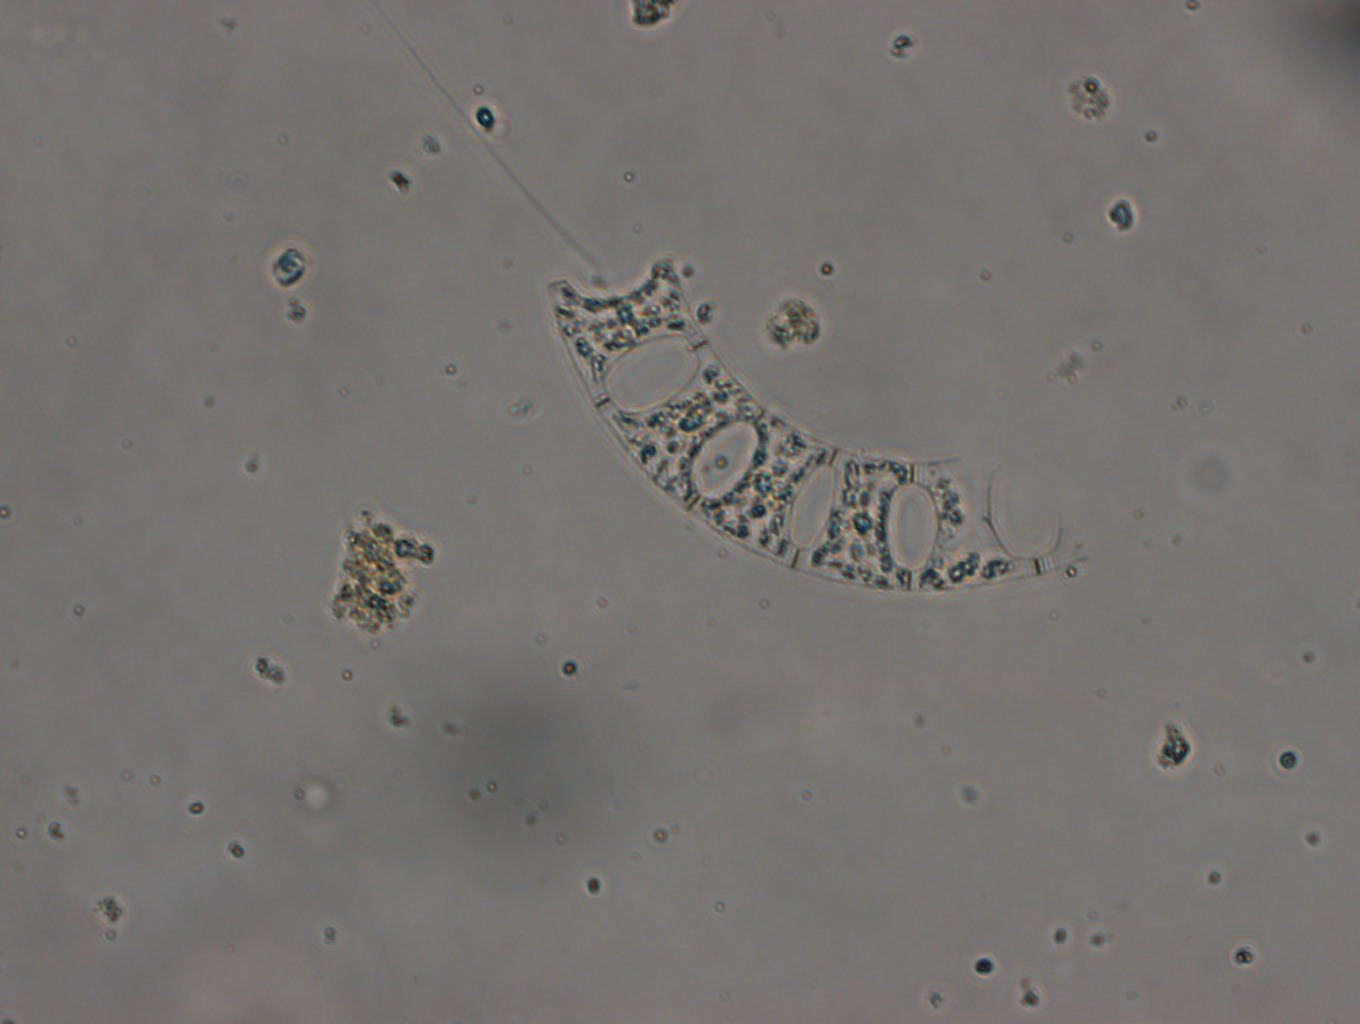eucampia: (550, 259, 1093, 594)
